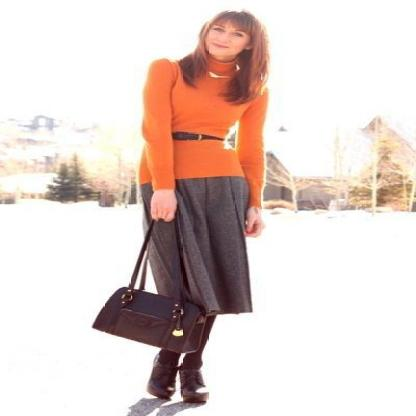bag: (93, 258, 213, 351)
jacket: (140, 54, 268, 207)
shoe: (148, 362, 207, 406)
skirt: (140, 176, 252, 372)
